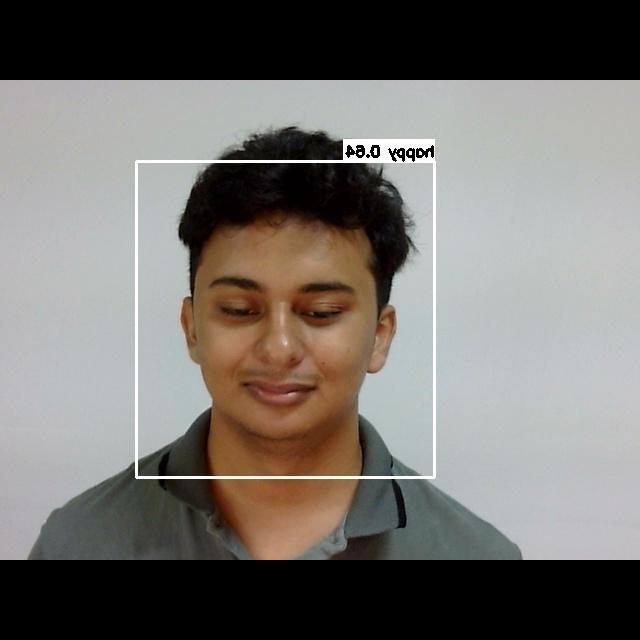Happy: (189, 245, 378, 429)
